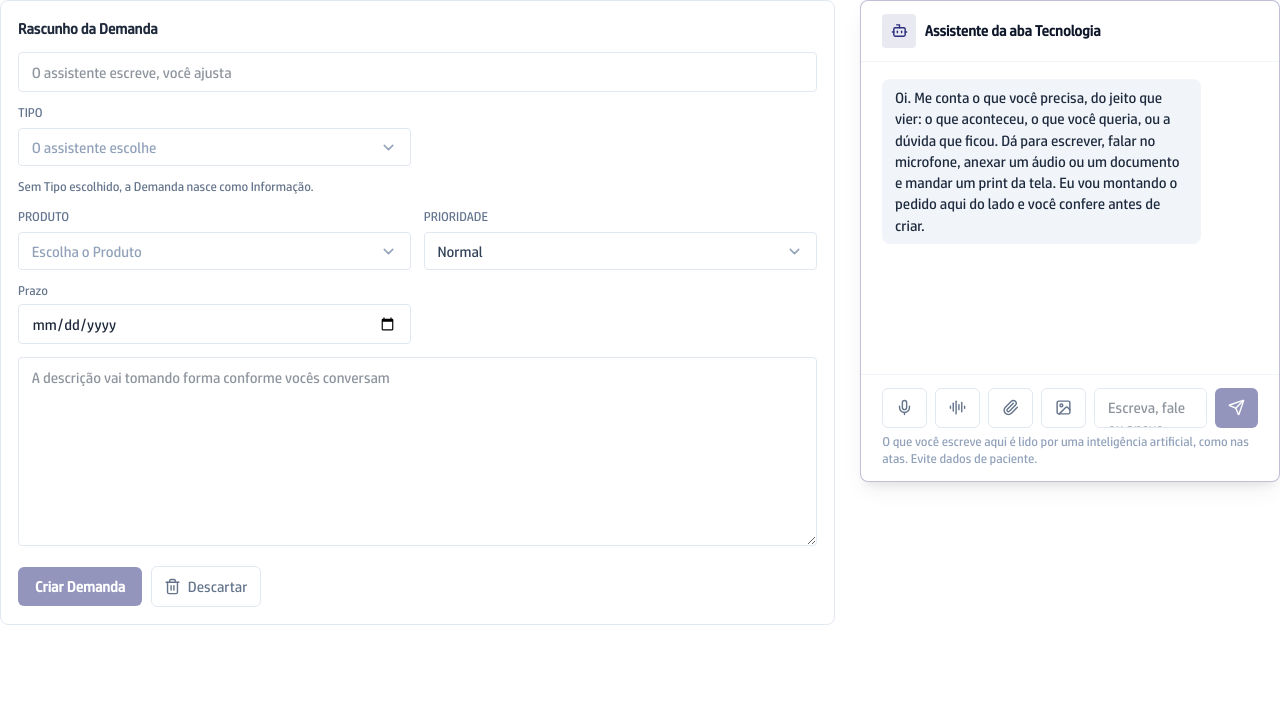
Test: A conversa › a recusa que o servidor explica é a dele que a pessoa lê
Type "a Ana tá estranha" into the text box named "Mensagem" at (1151, 408), box [1094,388,1207,428]
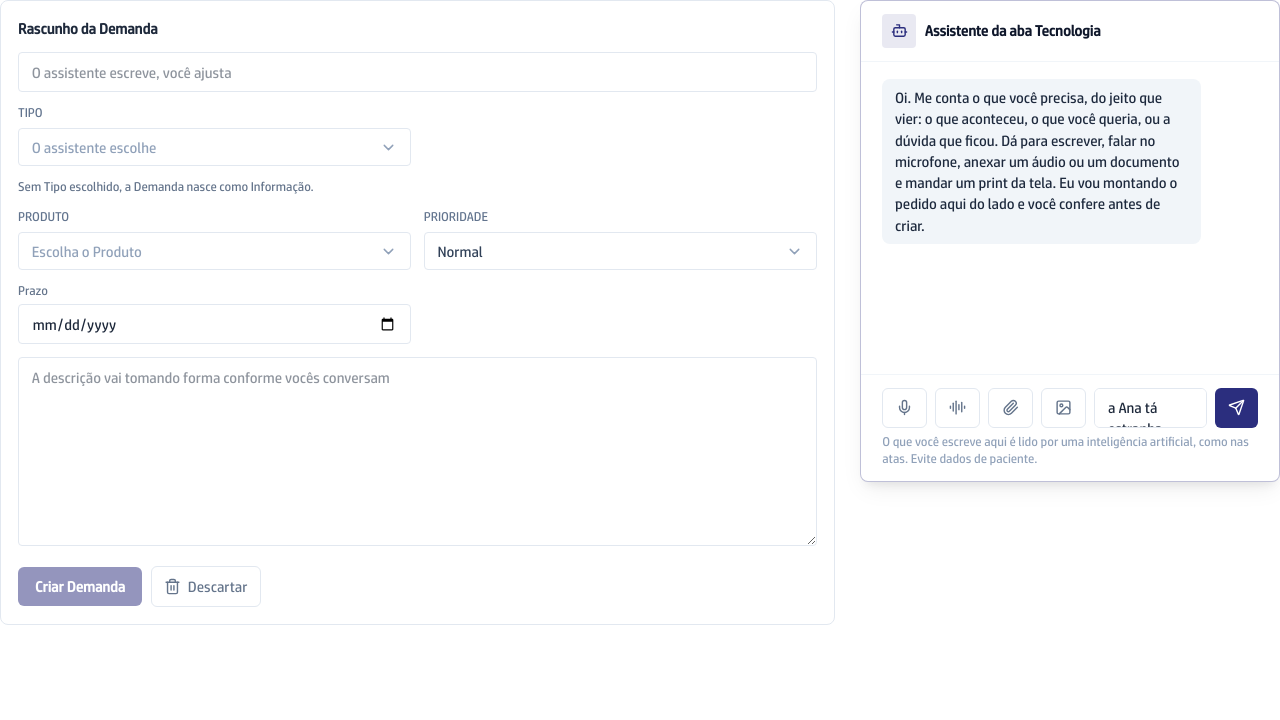
Click the button named "Enviar" at (1237, 408), box [1215,388,1258,428]
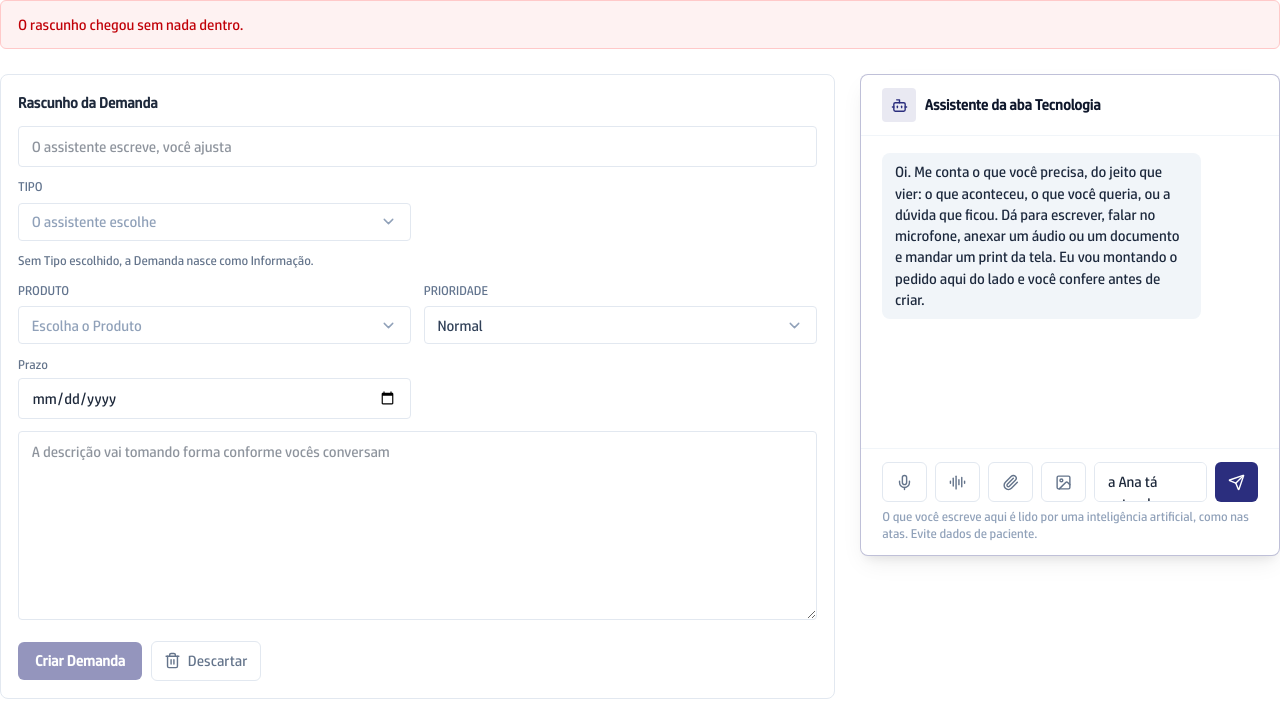
Now the message shows "sem nada dentro", box [18,16,244,33]
